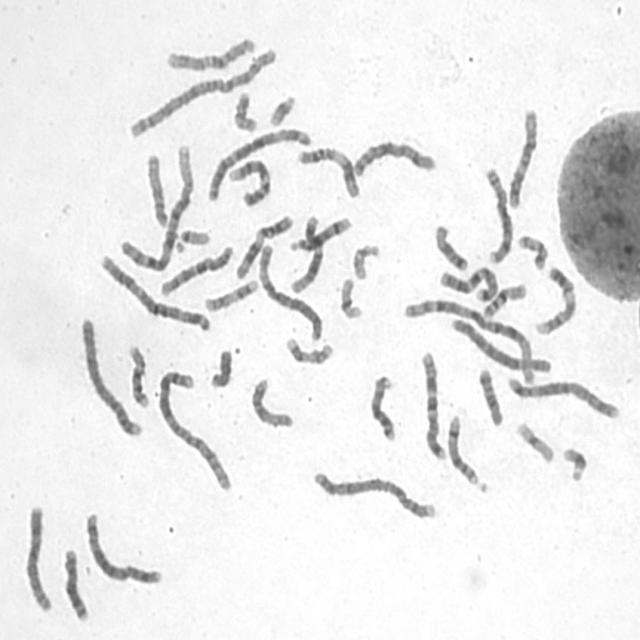A1: (399, 294, 540, 382), (115, 141, 197, 272)
A2: (125, 40, 278, 139), (152, 364, 235, 493)
A3: (95, 249, 214, 333), (202, 124, 313, 203)
B4: (76, 312, 144, 439), (308, 466, 438, 522)
B5: (80, 508, 164, 588), (503, 372, 622, 421)
C10: (157, 240, 236, 298), (162, 31, 258, 72)
C11: (231, 208, 296, 282), (293, 141, 362, 200)
C12: (503, 102, 540, 210), (286, 209, 325, 295)
C6: (253, 238, 325, 343), (448, 314, 550, 379)
C7: (416, 346, 448, 462), (436, 261, 500, 301)
C8: (348, 135, 438, 179), (480, 162, 515, 266)
C9: (531, 260, 579, 337), (224, 153, 273, 209)
D13: (58, 544, 91, 623), (366, 370, 398, 443)
D14: (443, 409, 484, 491), (286, 212, 353, 253)
D15: (247, 372, 296, 430), (142, 149, 170, 229)
E16: (479, 278, 529, 321), (123, 339, 152, 409)
E17: (201, 274, 260, 314), (282, 332, 335, 367)
E18: (429, 219, 471, 273), (474, 363, 506, 428)
F19: (512, 416, 556, 464), (336, 273, 364, 321)
F20: (514, 228, 550, 271), (230, 87, 260, 133)
G21: (558, 442, 590, 484), (264, 89, 298, 128)
G22: (352, 242, 380, 282), (173, 224, 212, 250)
X: (348, 135, 438, 179), (20, 498, 54, 614)
Y: (206, 344, 235, 390)
